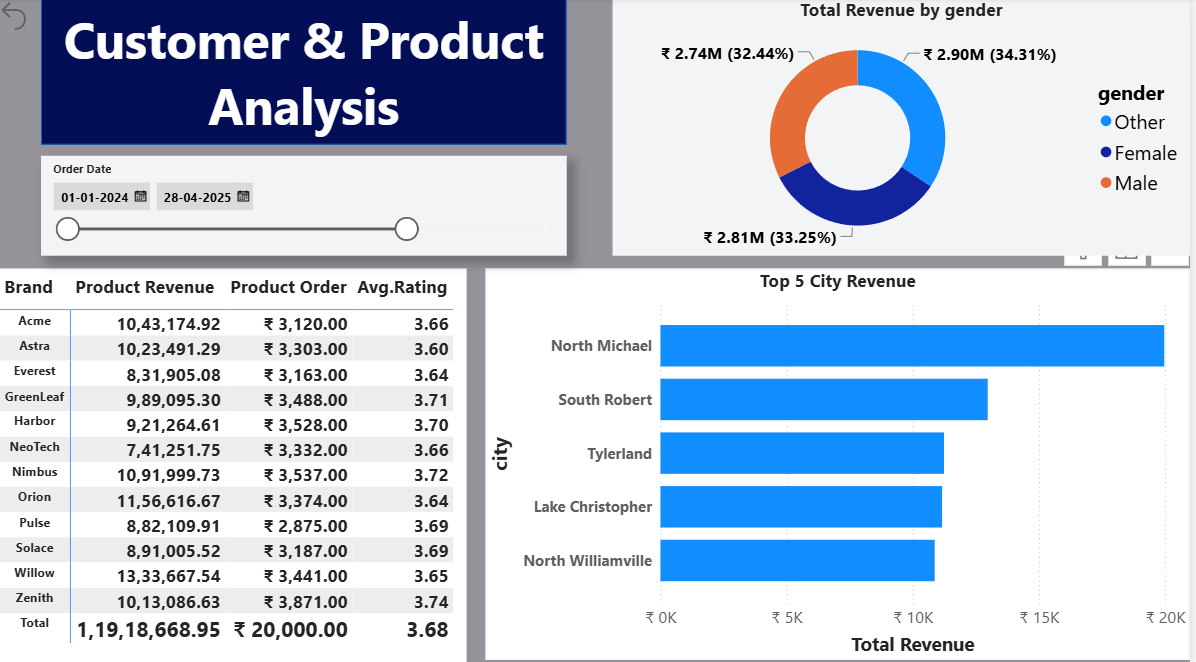

The page's visual inventory and layout, read from the dashboard file:
{"tool":"powerbi","page":{"name":"Customer & Product","canvas":[1280,720],"ordinal":1},"visuals":[{"type":"clusteredBarChart","title":"Top 5 City Revenue","fields":{"Category":["users.city"],"Y":["orders.Total Revenue"]},"box":[525.5,290.8,755,420],"z":0},{"type":"donutChart","fields":{"Category":["users.gender"],"Y":["orders.Total Revenue"]},"box":[715.9,0,564.6,277.2],"z":1000},{"type":"pivotTable","fields":{"Rows":["products.brand"],"Columns":["products.brand"],"Values":["products.Product Revenue","products.Product Order","products.Avg.Rating"]},"box":[0,290.8,505.1,428.5],"z":2000},{"type":"shape","box":[49.3,0,634.3,158.2],"z":3000},{"type":"actionButton","box":[0,0,49.3,40.8],"z":4000},{"type":"slicer","fields":{"Values":["orders.order_date"]},"box":[49.3,170.1,634.3,107.1],"z":5000}]}

Visuals, with their boxes in screenshot pixels (x1, y1, x2, y2), scaled from the page's 1280x720 canvas onto the 1196x662 screenshot:
"Top 5 City Revenue" clusteredBarChart: 491 267 1195 654
donutChart - users.gender x orders.Total Revenue: 669 0 1195 255
pivotTable - products.brand x products.brand: 0 267 472 661
shape: 46 0 639 145
actionButton: 0 0 46 38
slicer - orders.order_date: 46 156 639 255
